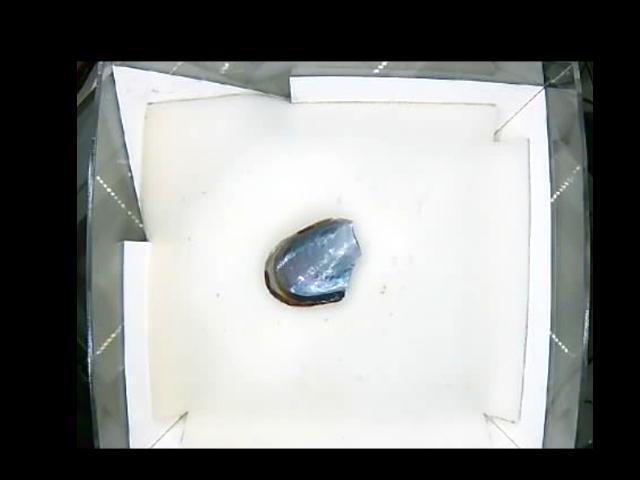Shell: (264, 216, 360, 306)
